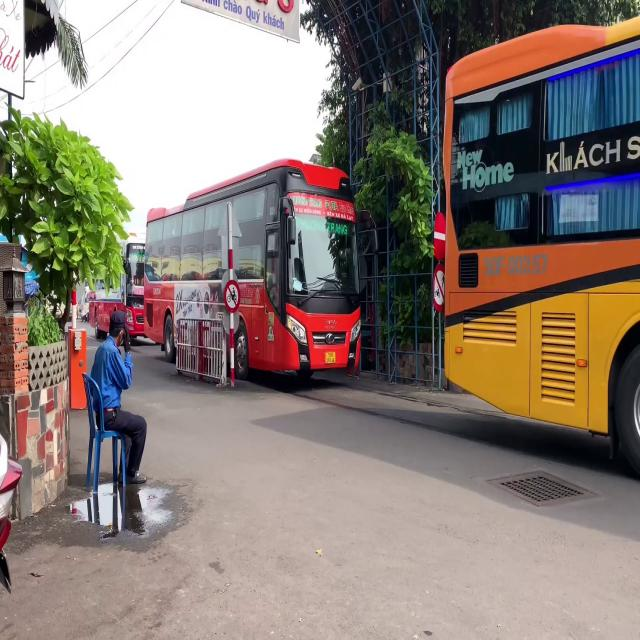bien_vang: (325, 351, 336, 364)
